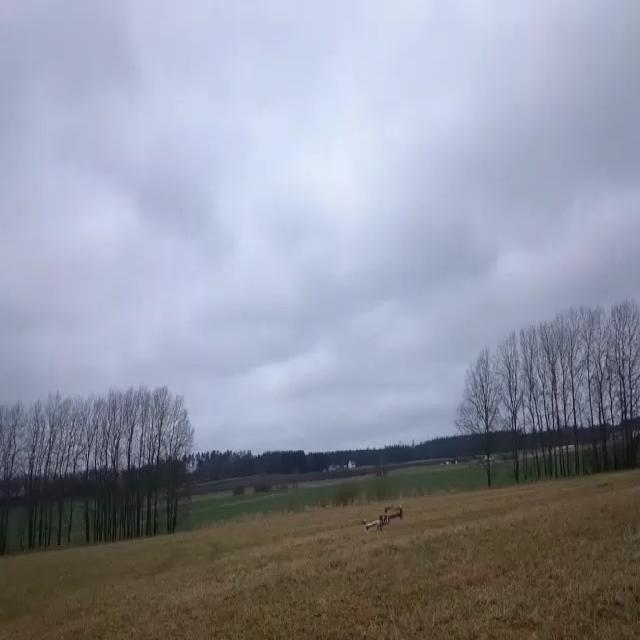drone: (363, 504, 404, 534)
